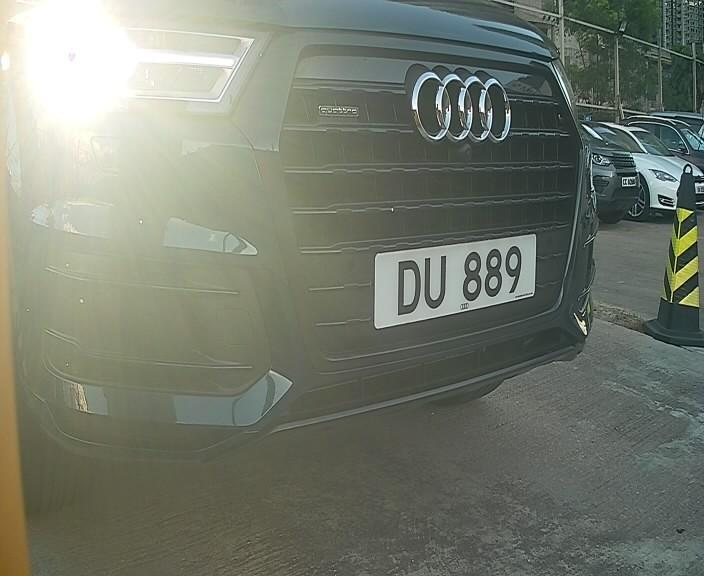License Plate: (371, 227, 541, 330)
